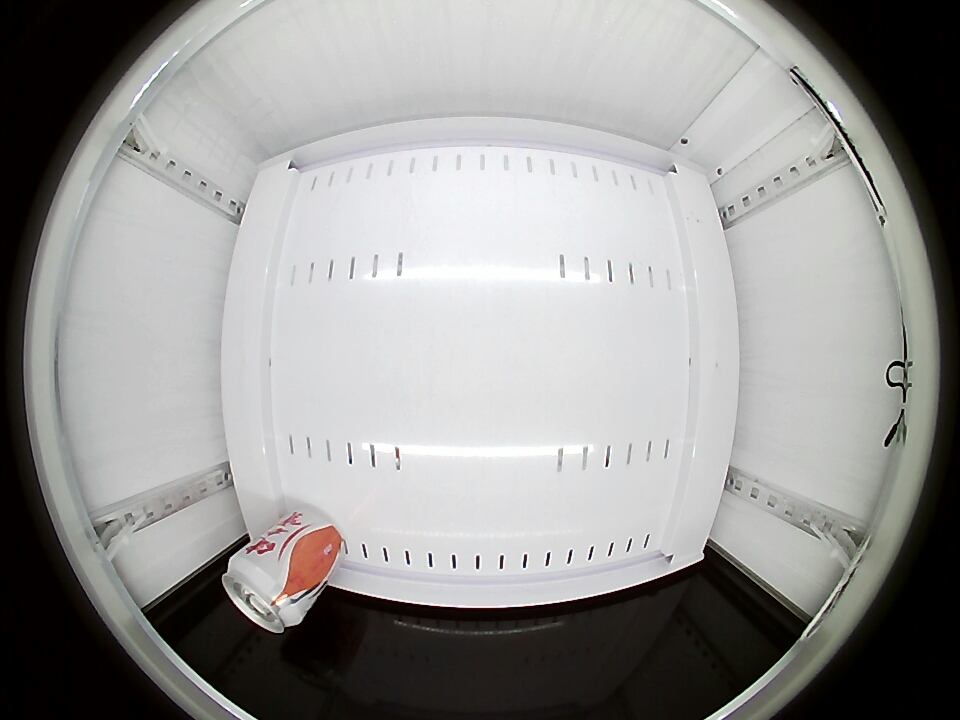jianlibao: (224, 553, 305, 633)
